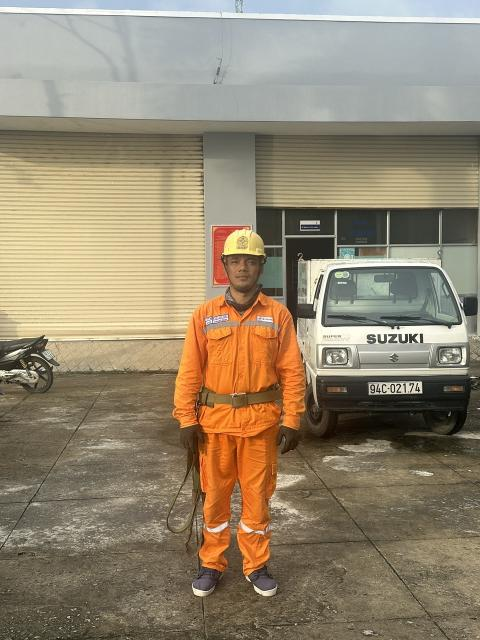gloves: (158, 408, 221, 465), (272, 421, 313, 470)
harness: (190, 378, 297, 412)
helmet: (221, 222, 276, 267)
shoes: (175, 555, 231, 608), (239, 555, 287, 604)
